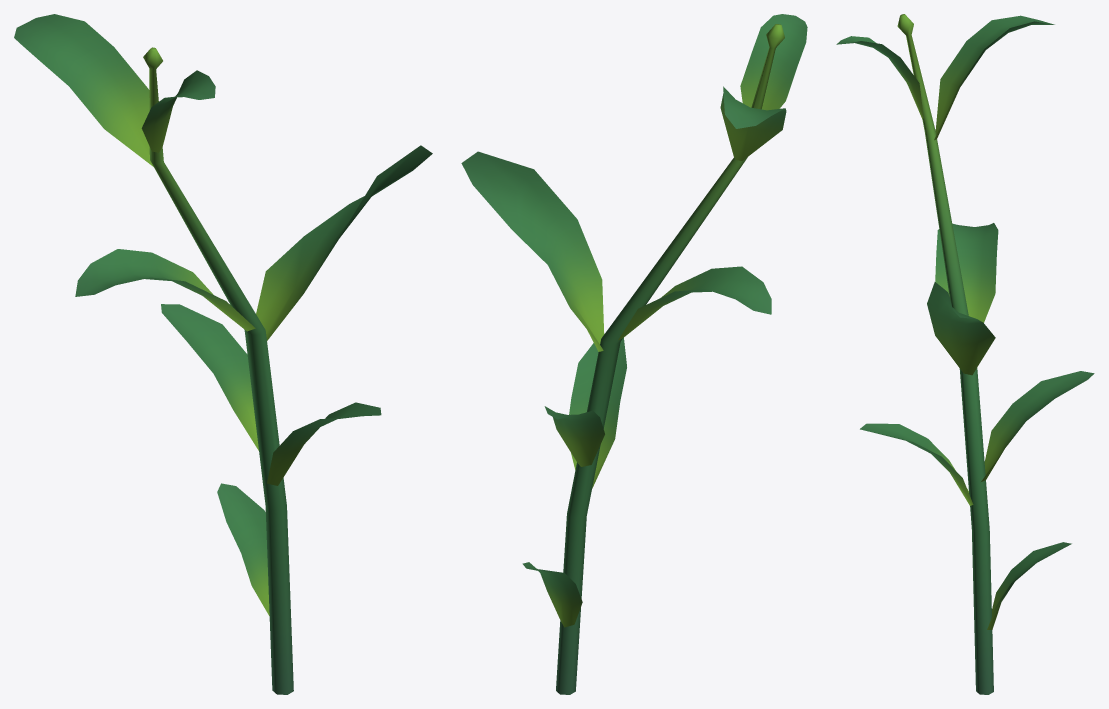
The model's file is plant_20.fbx.
The picture shows the model from 3 angles, left to right: view 1: azimuth 30°, elevation 25°; view 2: azimuth 150°, elevation 25°; view 3: azimuth 270°, elevation 25°; orthographic projection. The views are drawn at different scales.
Parts seen in each view (by area): view 1: plant_20; view 2: plant_20; view 3: plant_20.
Boxes of the visible parts, box(x1,y1,x2,y2) form: plant_20: box(14, 14, 432, 694); plant_20: box(461, 14, 807, 694); plant_20: box(836, 14, 1094, 694).
Bounding box in the file's own units: 1.93 × 3.58 × 1.39.
